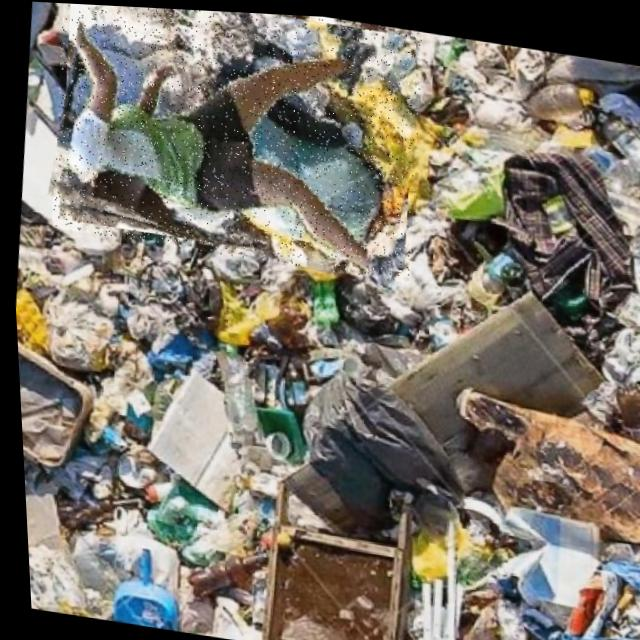Person in Rubble: (39, 2, 433, 278)
